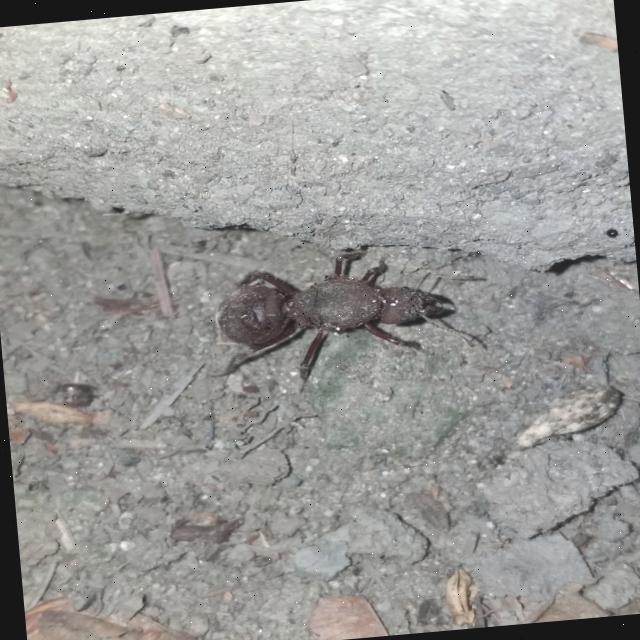Alive-Female-Dealate: (195, 242, 483, 402)
